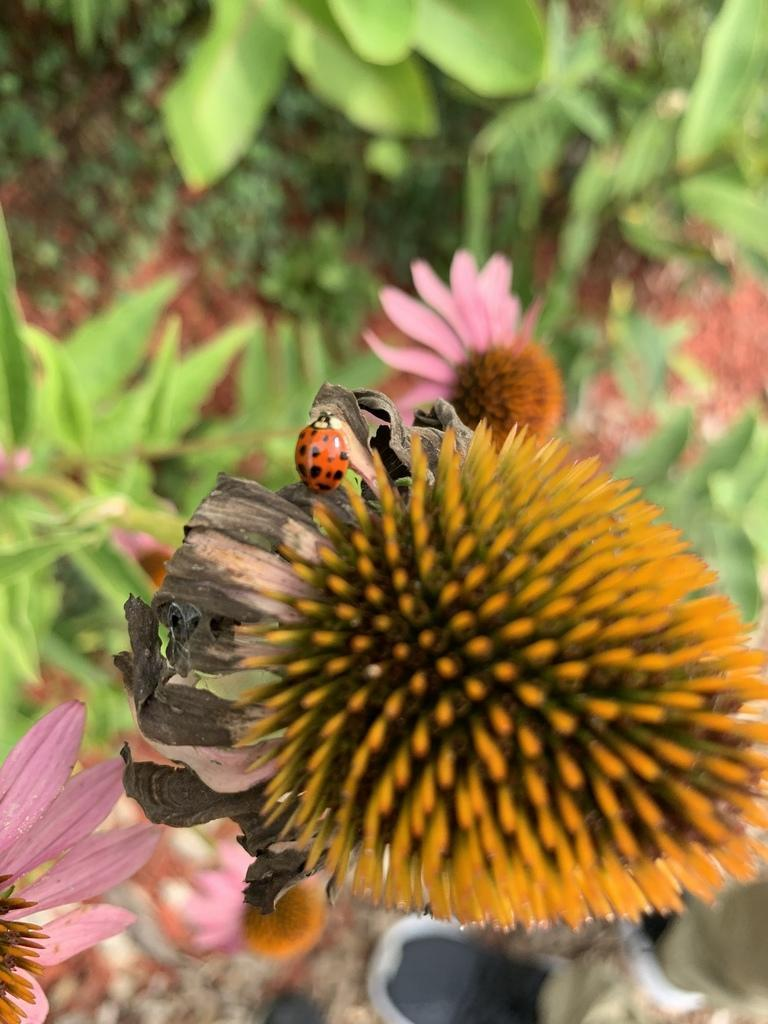ladybug: (295, 409, 351, 497)
